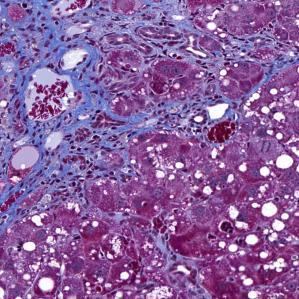fibrosis: (4, 5, 115, 144)
